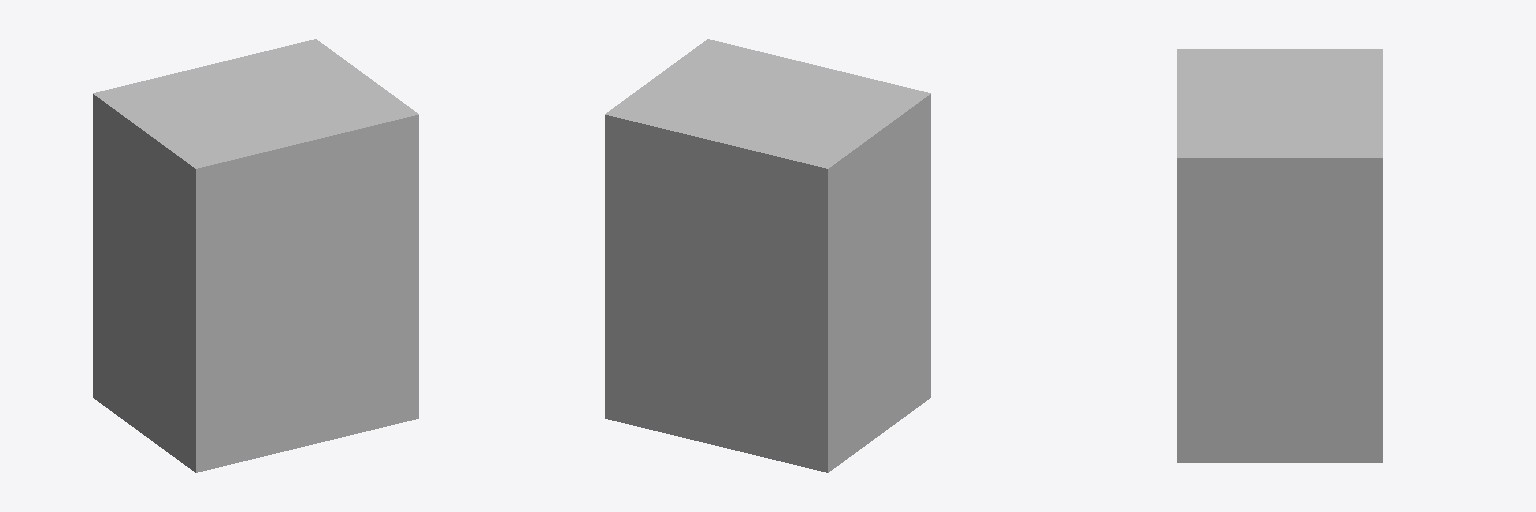
File: owl bear-1.obj
The picture shows the model from 3 angles: view 1: azimuth 30°, elevation 25°; view 2: azimuth 150°, elevation 25°; view 3: azimuth 270°, elevation 25°; orthographic projection.
Parts seen in each view (by area): view 1: object 1; view 2: object 1; view 3: object 1.
Part boxes in pixels (left/top/right/bottom): object 1: left=93, top=39, right=418, bottom=472; object 1: left=605, top=39, right=930, bottom=472; object 1: left=1177, top=49, right=1382, bottom=462.
Bounding box in the file's own units: 1 × 1.3 × 0.8.